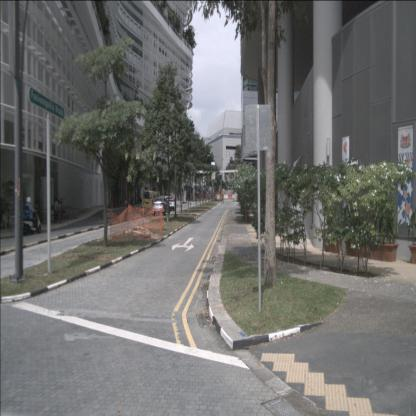human-pedestrian-adult: (54, 197, 61, 219), (56, 199, 62, 222), (60, 196, 66, 216), (221, 192, 224, 203)
movable_object-barrier: (215, 194, 220, 199), (211, 194, 215, 199), (228, 194, 232, 198), (232, 194, 236, 198), (207, 194, 211, 198), (220, 195, 224, 198), (224, 195, 228, 198)
vehicle-car: (152, 196, 170, 215), (142, 190, 158, 211), (159, 195, 175, 211)
vehicle-motorcycle: (22, 196, 42, 236)
